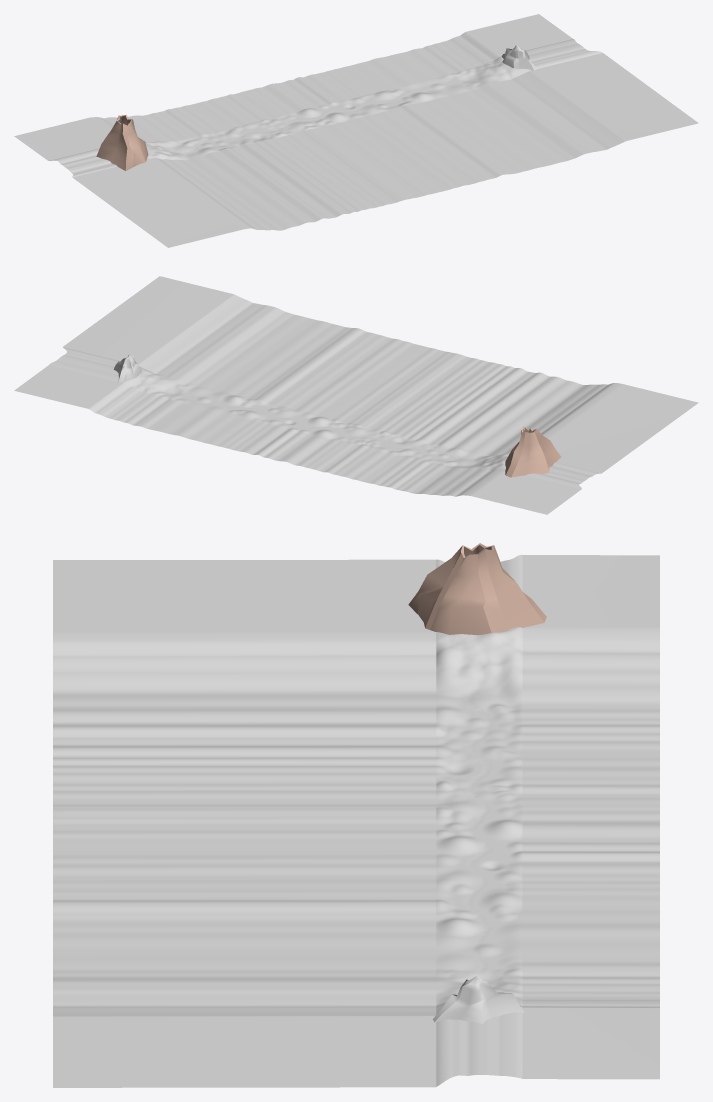
The model's file is terrainNiveau2.fbx.
The picture shows the model from 3 angles, top to bottom: view 1: azimuth 30°, elevation 25°; view 2: azimuth 150°, elevation 25°; view 3: azimuth 270°, elevation 25°; orthographic projection. The views are drawn at different scales.
Visible parts, largest first — view 1: pPlane1, volcan:volcan, montagneBlanc1:montagneBlanc1; view 2: pPlane1, volcan:volcan, montagneBlanc1:montagneBlanc1; view 3: pPlane1, volcan:volcan, montagneBlanc1:montagneBlanc1.
Boxes of the visible parts, box(x1,y1,x2,y2) form: pPlane1: box(14, 14, 698, 247); volcan:volcan: box(96, 115, 148, 170); montagneBlanc1:montagneBlanc1: box(501, 45, 536, 70); pPlane1: box(14, 276, 698, 514); volcan:volcan: box(505, 426, 561, 477); montagneBlanc1:montagneBlanc1: box(113, 354, 141, 382); pPlane1: box(53, 554, 659, 1087); volcan:volcan: box(408, 543, 546, 635); montagneBlanc1:montagneBlanc1: box(433, 976, 524, 1023).
Size of the model in its own units: 233443 by 20836 by 115096.
